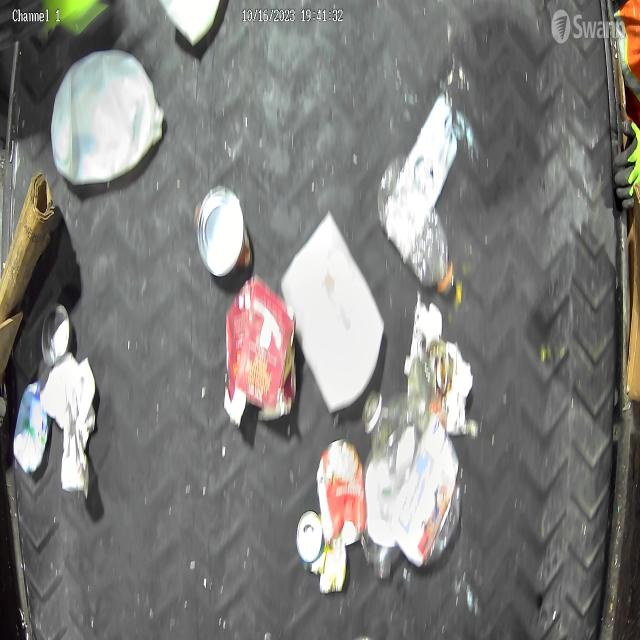can: (194, 183, 255, 280), (316, 436, 366, 550), (41, 303, 72, 370), (296, 509, 324, 564)
milk_jug: (49, 46, 165, 187)
plastic_bottle: (362, 390, 463, 566), (376, 151, 456, 296)
